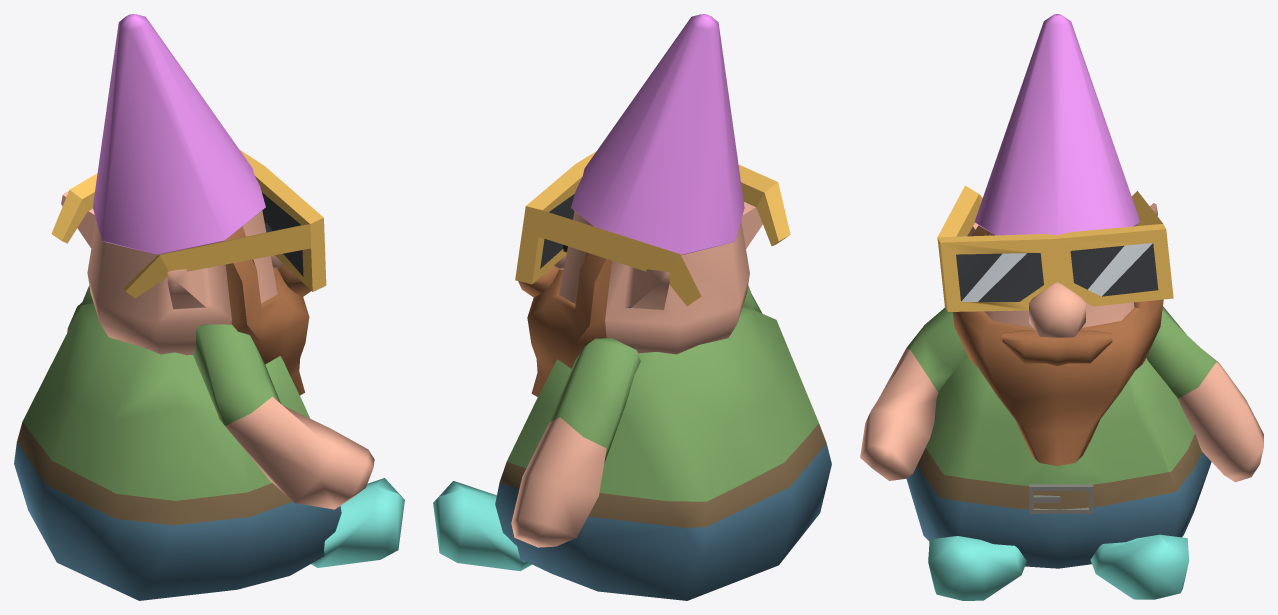
Rendered from SM_Prop_GardenGnome_Sitting_02.obj.
3 views of the same model, side by side, from view 1: azimuth 30°, elevation 25°; view 2: azimuth 150°, elevation 25°; view 3: azimuth 270°, elevation 25° (orthographic). The views are drawn at different scales.
Visible parts, largest first — view 1: SM_Prop_GardenGnome_Sitting_02_Mat_SwatchOverlay_PolygonTown_01_; view 2: SM_Prop_GardenGnome_Sitting_02_Mat_SwatchOverlay_PolygonTown_01_; view 3: SM_Prop_GardenGnome_Sitting_02_Mat_SwatchOverlay_PolygonTown_01_.
Part boxes in pixels (<box>): SM_Prop_GardenGnome_Sitting_02_Mat_SwatchOverlay_PolygonTown_01_: <box>14,14,404,600</box>; SM_Prop_GardenGnome_Sitting_02_Mat_SwatchOverlay_PolygonTown_01_: <box>433,14,831,600</box>; SM_Prop_GardenGnome_Sitting_02_Mat_SwatchOverlay_PolygonTown_01_: <box>860,14,1263,600</box>.
Bounding box in the file's own units: 0.3347 × 0.5586 × 0.4117.
Materials: 1 (1 with a texture image).
